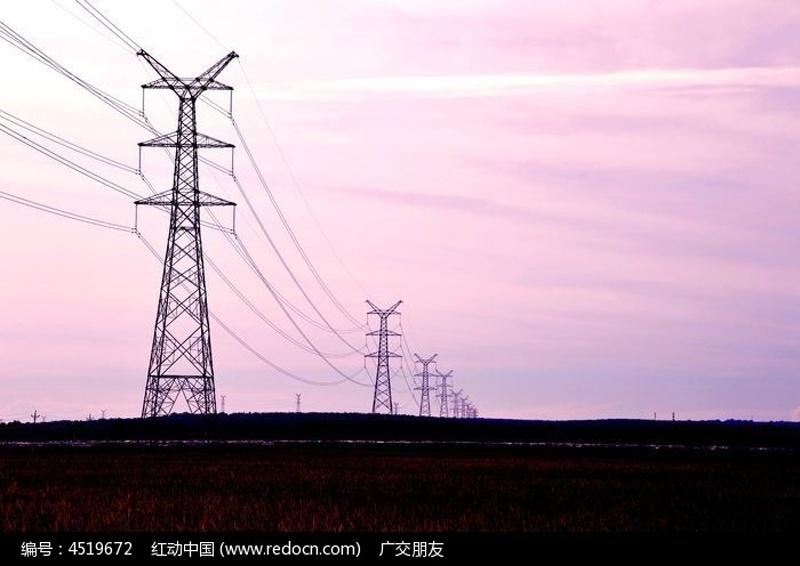power_tower: (118, 33, 227, 408), (354, 279, 409, 424), (405, 347, 437, 417)
